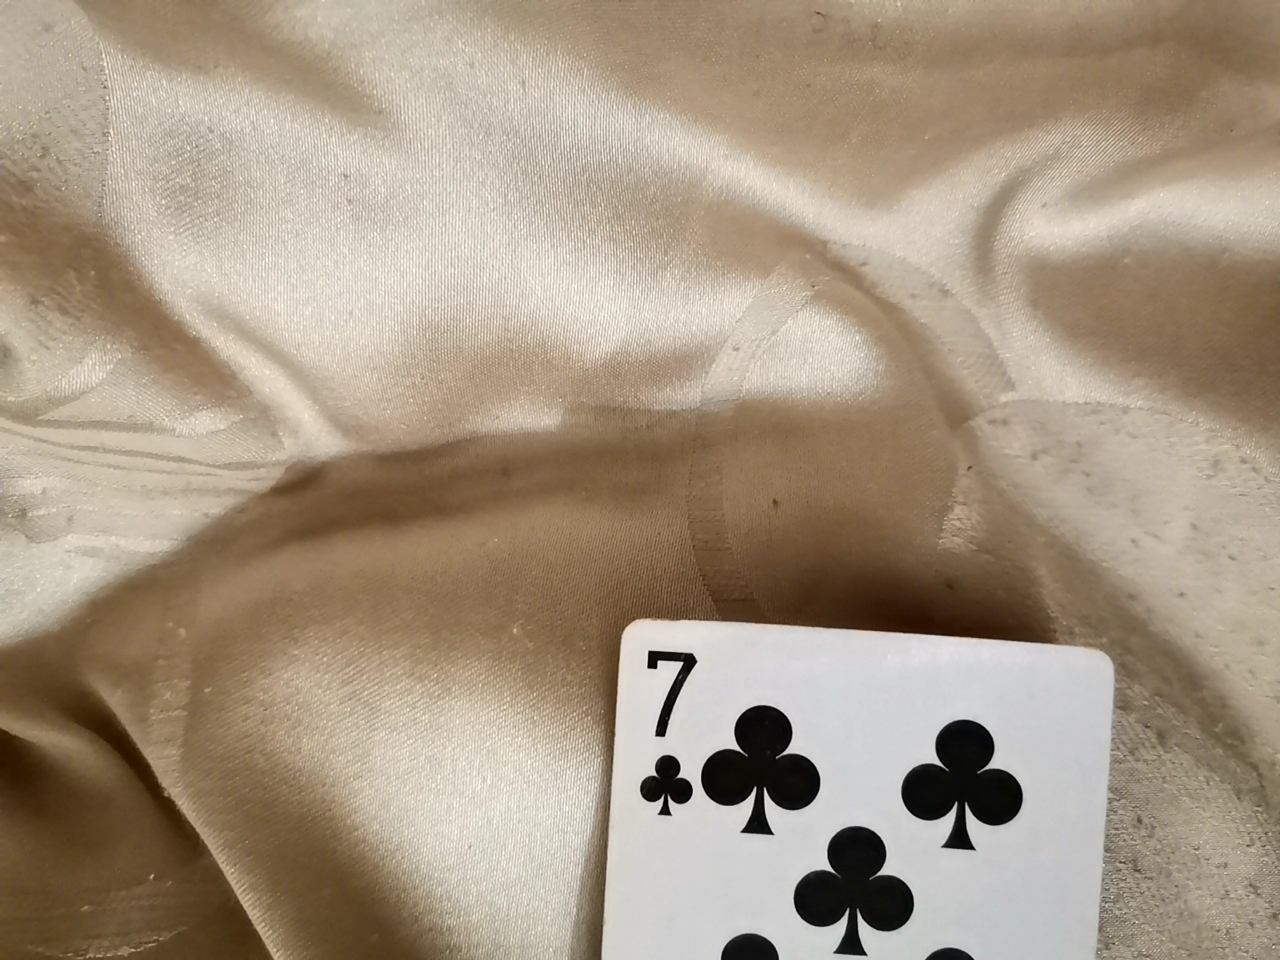mh 7: (577, 618, 1113, 960)
